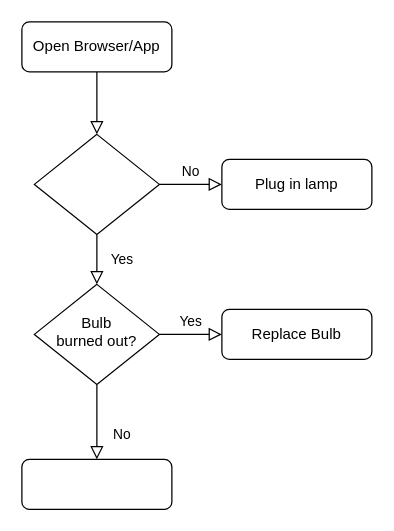
The diagram is 394 pixels wide and 531 high, and some of its shapes have lost their labels. Here are the shapes that lost their labels. From the top down, the centre of each, then its label:
At (x=96, y=183): "User gets prompted how to".
At (x=96, y=483): "Repair Lamp".
